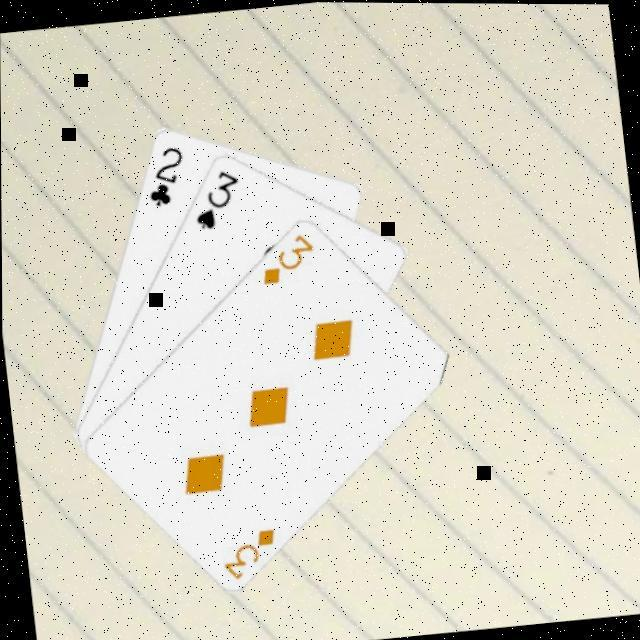2C: (139, 142, 189, 210)
3D: (252, 228, 319, 288), (214, 523, 281, 583)
3S: (185, 165, 244, 234)
